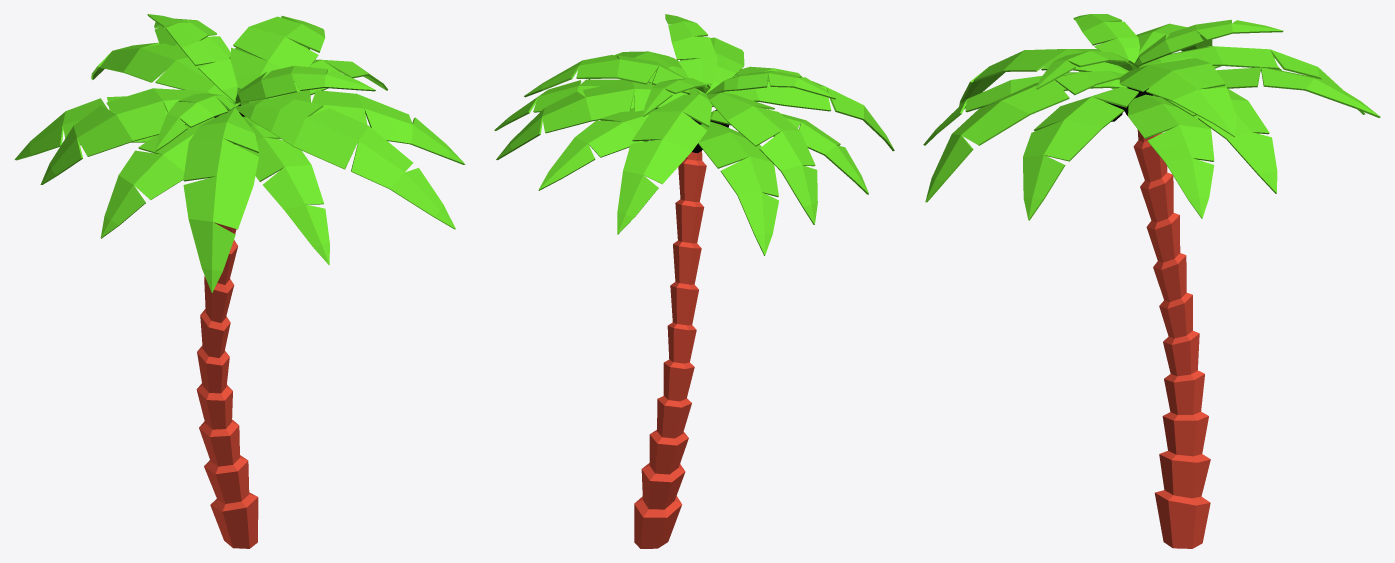
The model's file is Palm_3.fbx.
The picture shows the model from 3 angles, left to right: view 1: azimuth 30°, elevation 25°; view 2: azimuth 150°, elevation 25°; view 3: azimuth 270°, elevation 25°; orthographic projection. The views are drawn at different scales.
Visible parts, largest first — view 1: Palm_3; view 2: Palm_3; view 3: Palm_3.
Part boxes in pixels (x1=…): Palm_3: x1=14, y1=14, x2=465, y2=548; Palm_3: x1=494, y1=14, x2=894, y2=548; Palm_3: x1=923, y1=14, x2=1380, y2=548.
Bounding box in the file's own units: 3.46 × 4.89 × 4.05.
